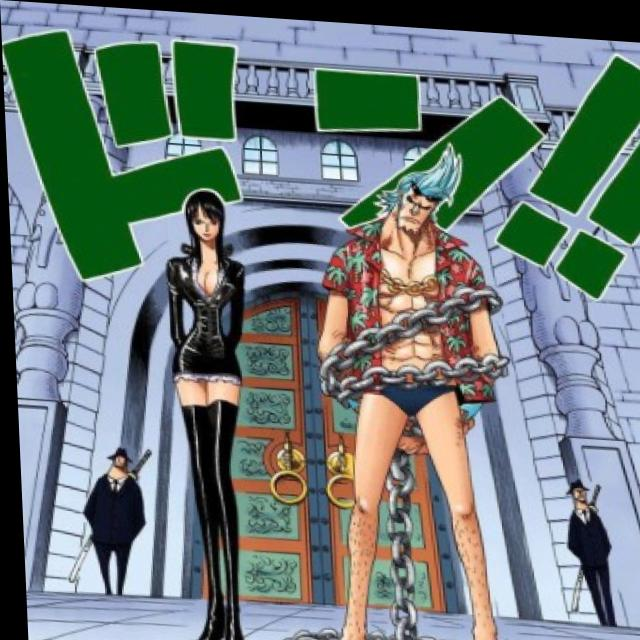Franky: (342, 136, 491, 266)
NicoRobin: (168, 162, 239, 291)
